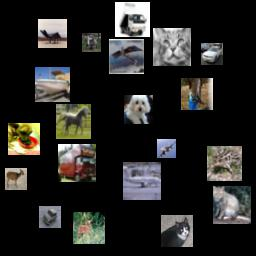airplane: (123, 162, 161, 200), (109, 39, 144, 74), (38, 19, 67, 48), (157, 139, 176, 158)
automobile: (201, 43, 223, 65), (39, 206, 61, 228)
bird: (181, 78, 213, 110)
cat: (213, 186, 251, 224), (153, 28, 191, 66), (161, 215, 193, 247), (82, 33, 101, 52)
deer: (73, 212, 105, 244), (5, 168, 27, 190)
dog: (8, 123, 40, 155), (124, 95, 153, 124)
frog: (207, 146, 242, 181)
ship: (35, 67, 70, 102)
truck: (58, 144, 96, 182), (115, 2, 150, 37)
